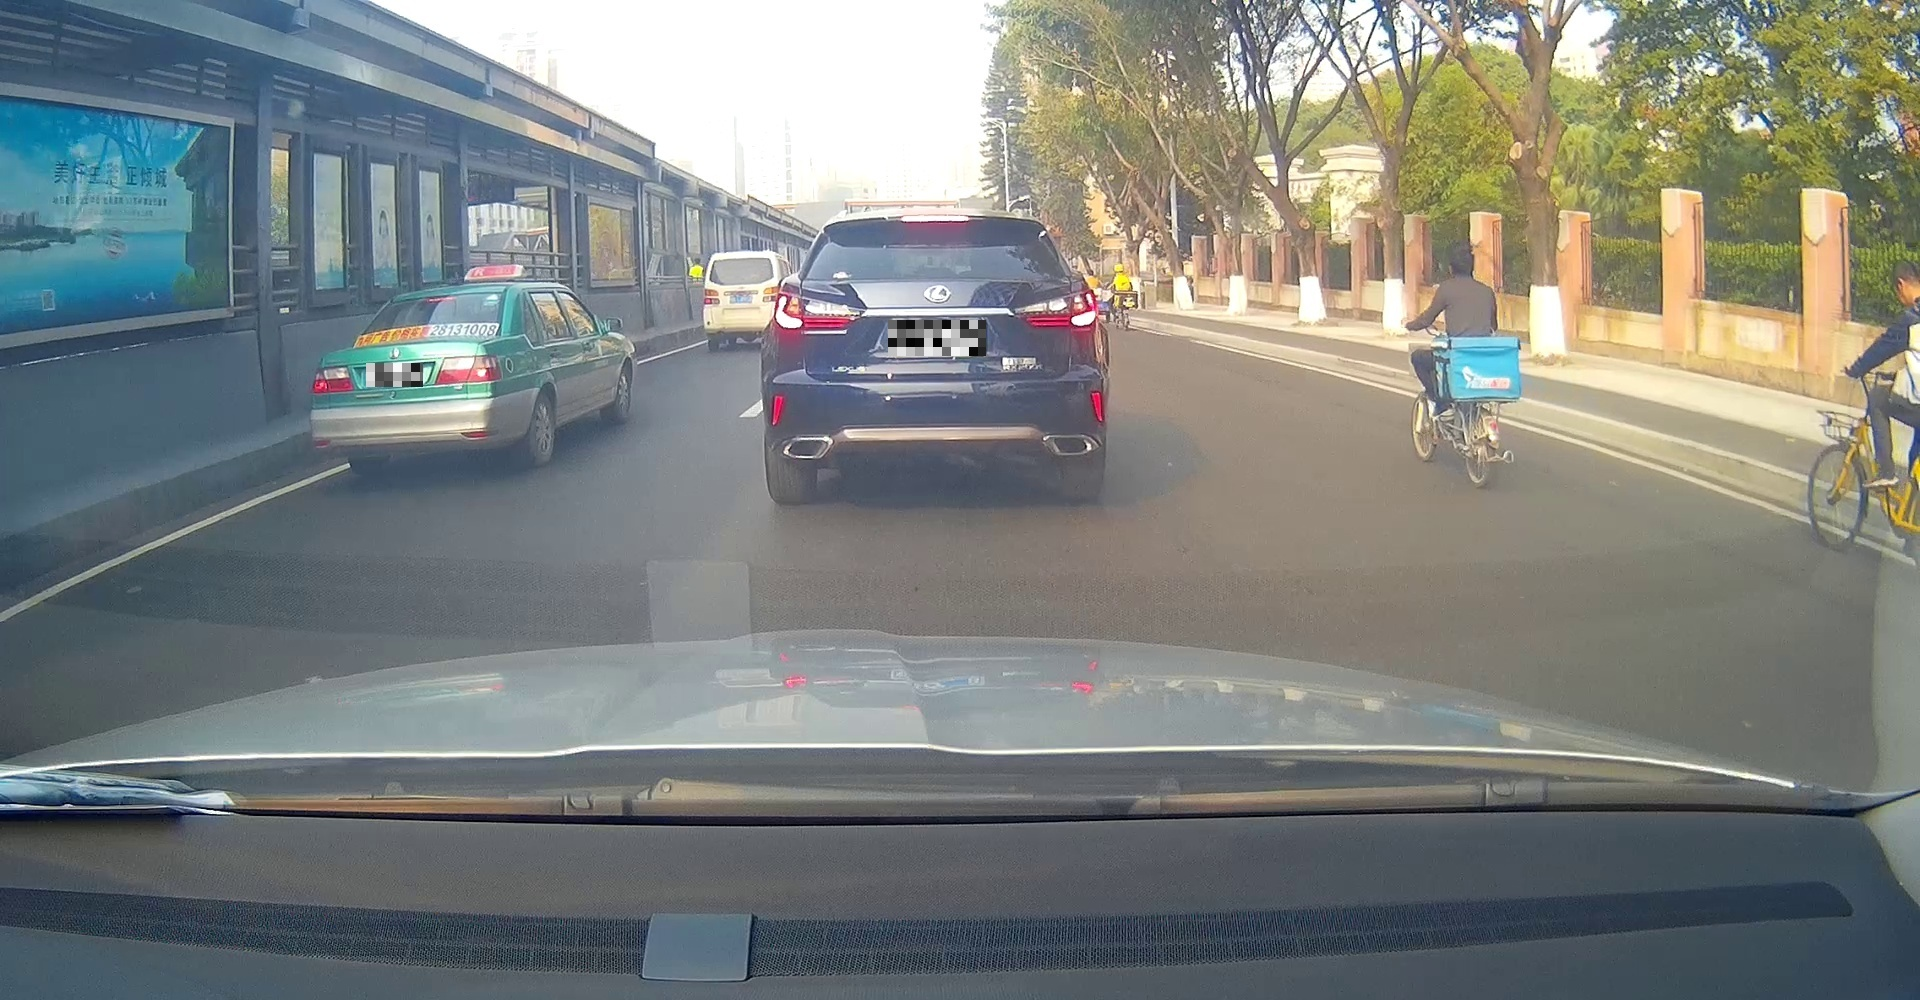L_light: (771, 288, 865, 335), (312, 365, 354, 396)
R_light: (1012, 288, 1100, 327), (434, 355, 502, 386)
T_light: (902, 214, 969, 222), (425, 294, 456, 302)
day-brake: (759, 206, 1110, 503), (309, 280, 517, 475)
plate_1: (366, 363, 423, 387)
plate_2: (888, 320, 985, 357)
